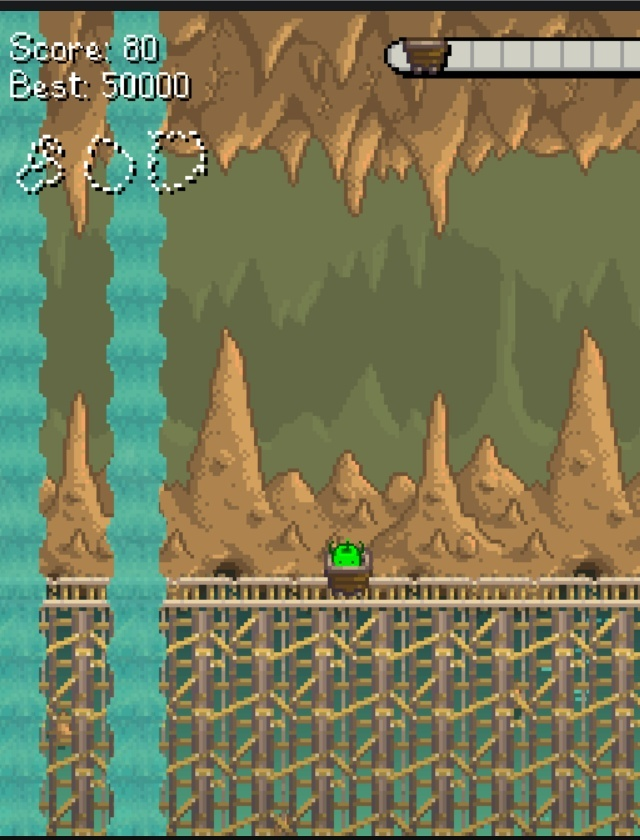minecart: (324, 540, 370, 595)
score: (121, 30, 161, 66)
tracks: (0, 565, 318, 614)
